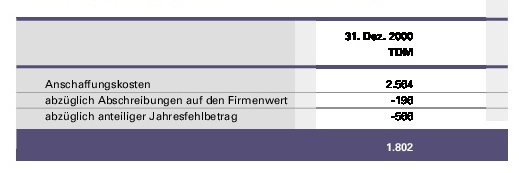table: (0, 0, 519, 173)
